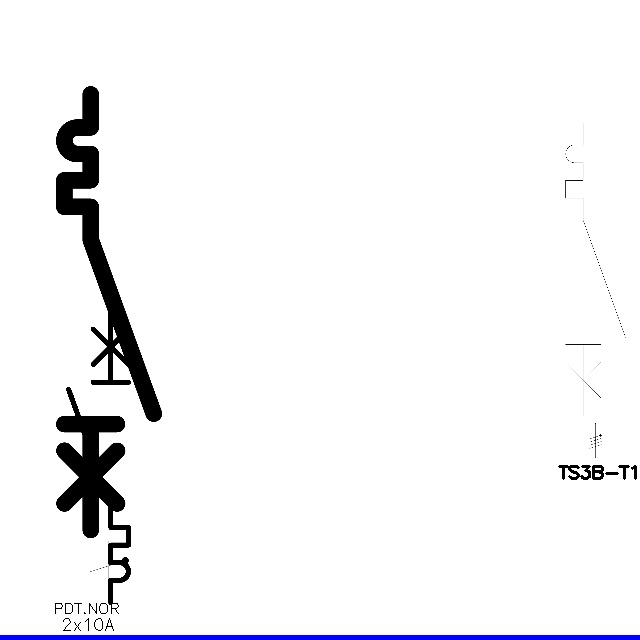interruptor_termomagnetico: (53, 83, 165, 541), (558, 115, 633, 423), (61, 304, 136, 610)
